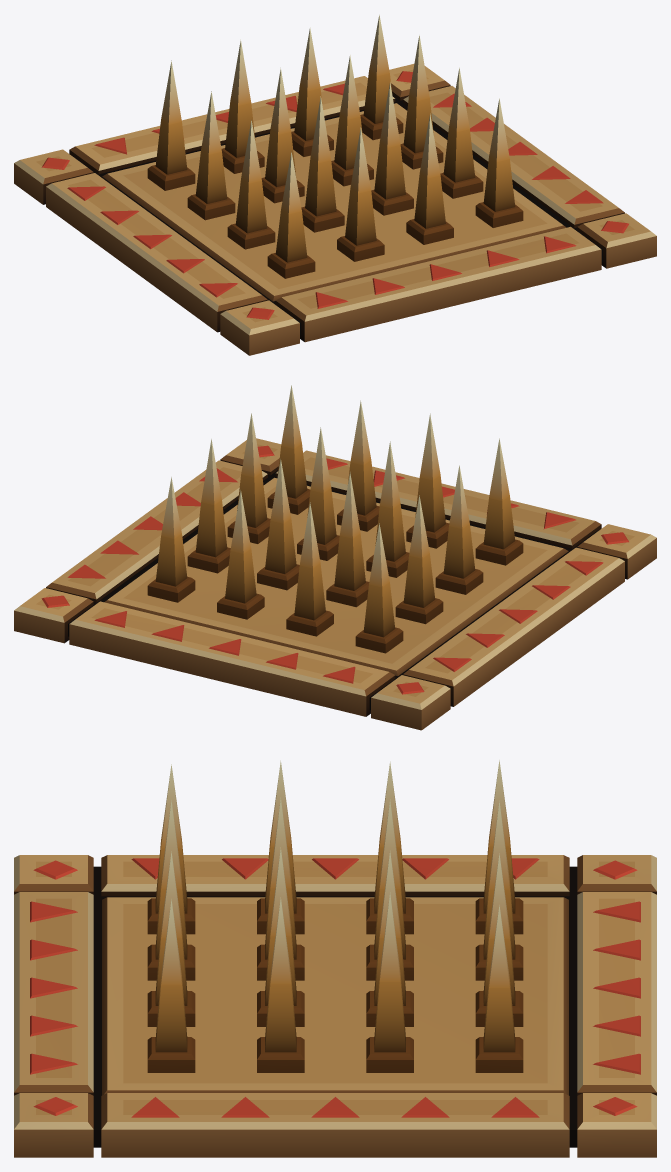
Rendered from spikes_desert.glb.
The picture shows the model from 3 angles, top to bottom: view 1: azimuth 30°, elevation 25°; view 2: azimuth 150°, elevation 25°; view 3: azimuth 270°, elevation 25°; orthographic projection. The views are drawn at different scales.
Parts seen in each view (by area): view 1: spikes_desert; view 2: spikes_desert; view 3: spikes_desert.
Boxes of the visible parts, x1,y1,x2,y2 form: spikes_desert: [14, 14, 656, 355]; spikes_desert: [14, 385, 656, 730]; spikes_desert: [14, 760, 656, 1157].
Size of the model in its own units: 2 by 0.6915 by 2.
